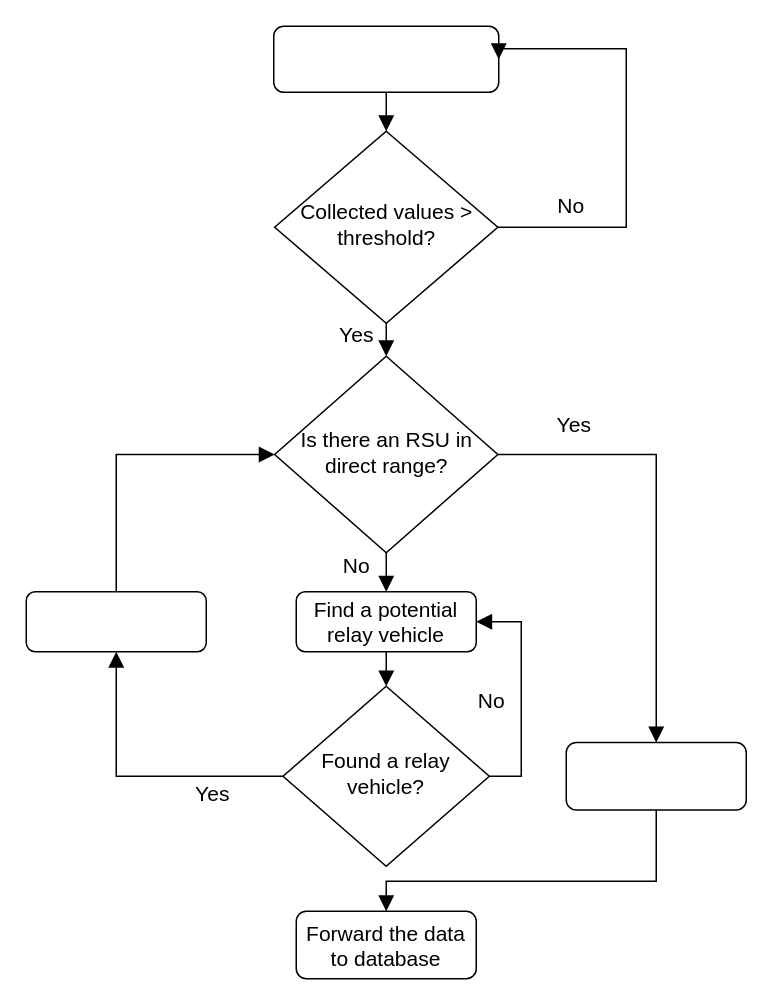
Image size: 773x1005. Some labels were removed from this diagram. Here are the shapes that lost their labels. From the top down, the box of each, then its label:
(272, 25, 499, 92): Data collection at Vehicle emission outlet
(25, 590, 206, 652): Forward data to relay vehicle
(565, 741, 746, 810): Forward Data to RSU
